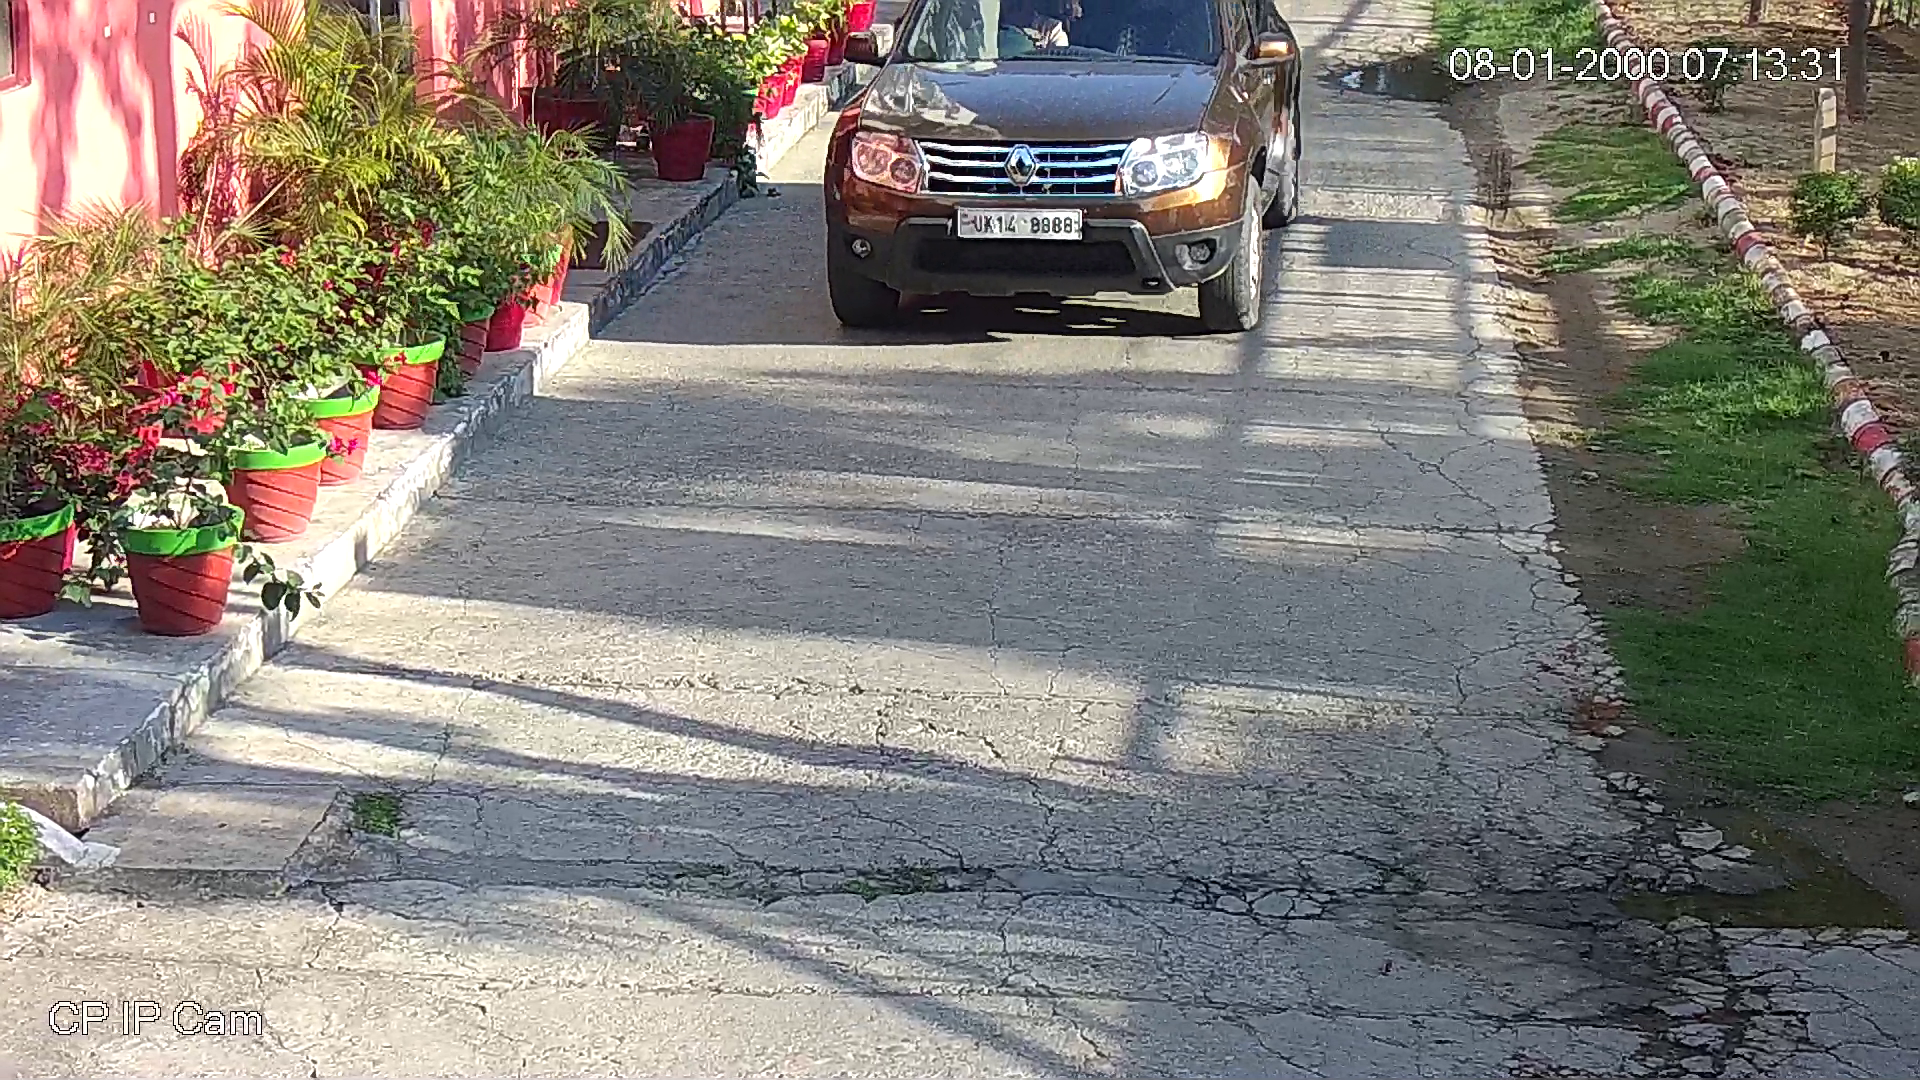plate: (951, 204, 1086, 242)
